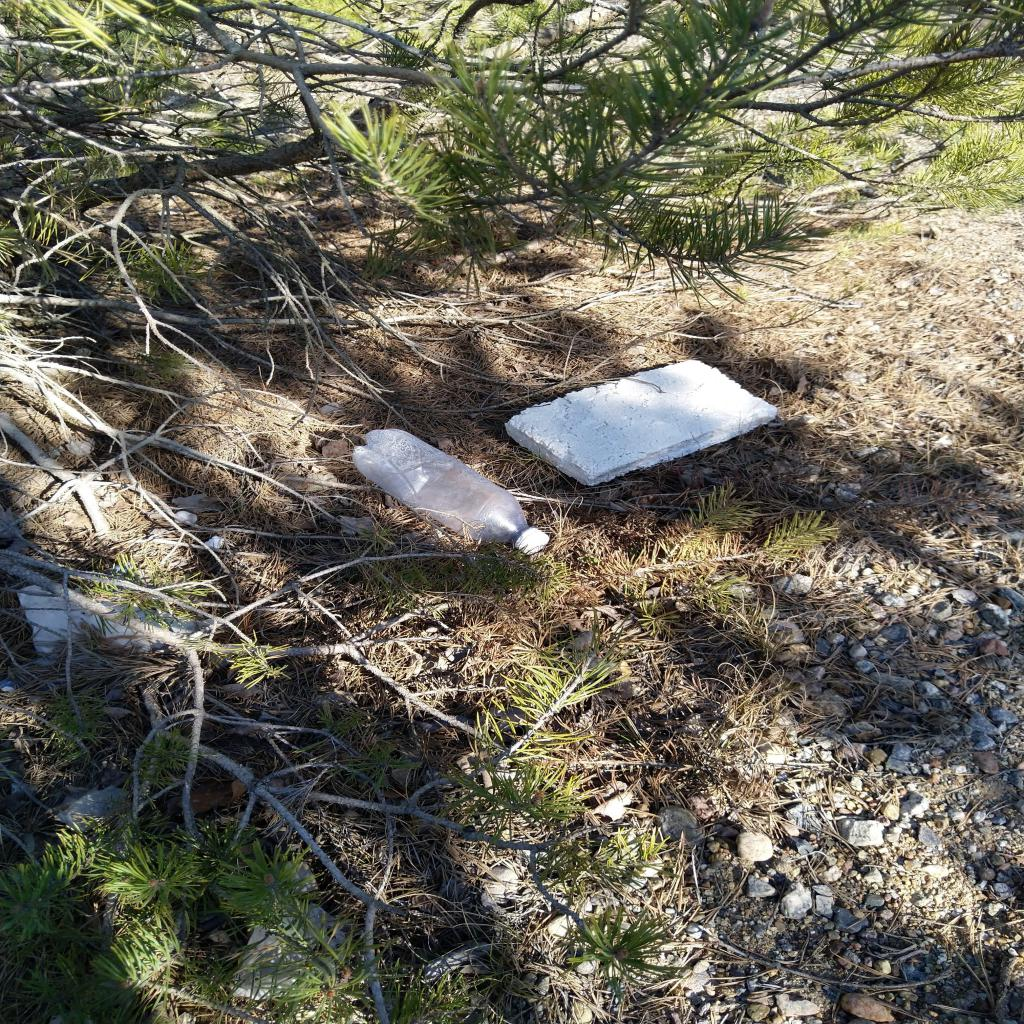Clear plastic bottle: (352, 428, 550, 556)
Plastic bottle cap: (519, 530, 549, 556)
Plastic film: (230, 864, 346, 1000)
Styrofoam piece: (504, 360, 778, 486), (205, 535, 226, 548)
